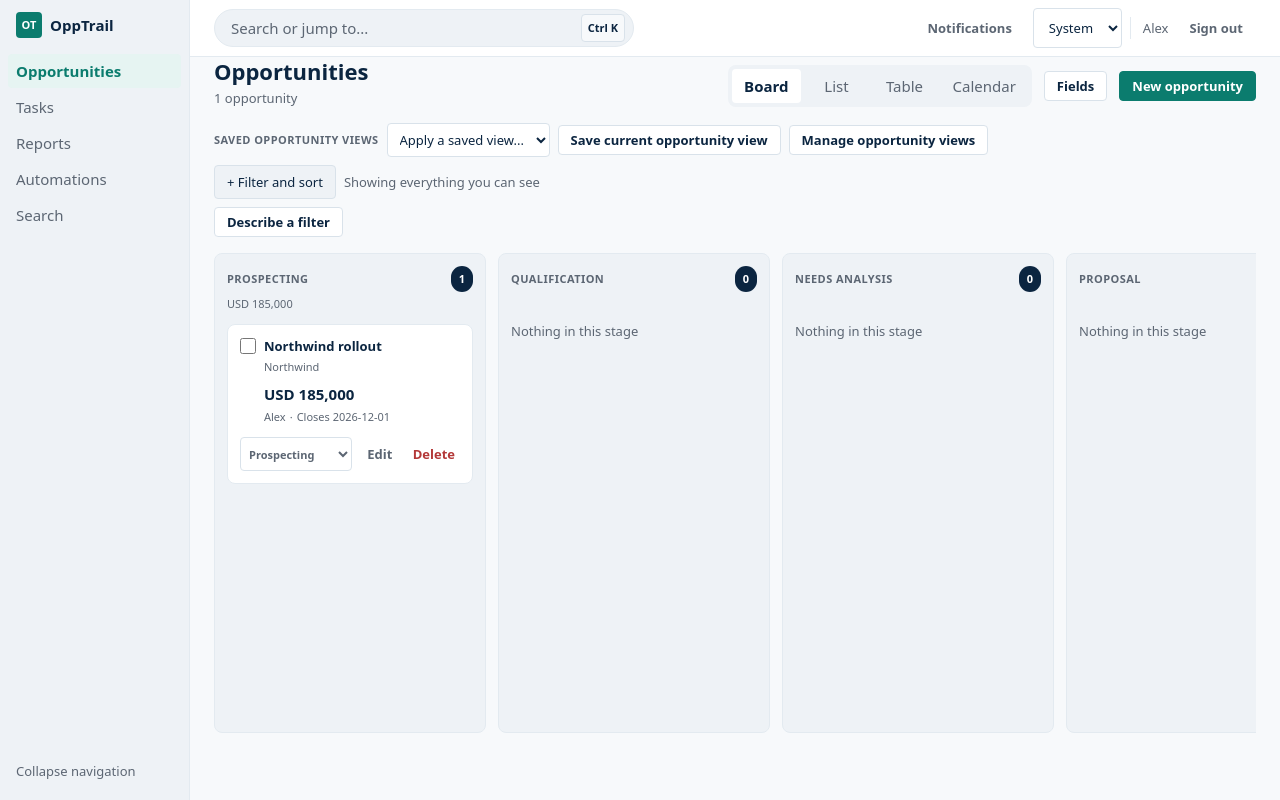
Test: a sentence as a filter you can read first › applies nothing until Apply is pressed
Expected: the heading "Opportunities" is shown, [214,57,368,85]
Click the button "Describe a filter": click(278, 222) [214,207,343,237]
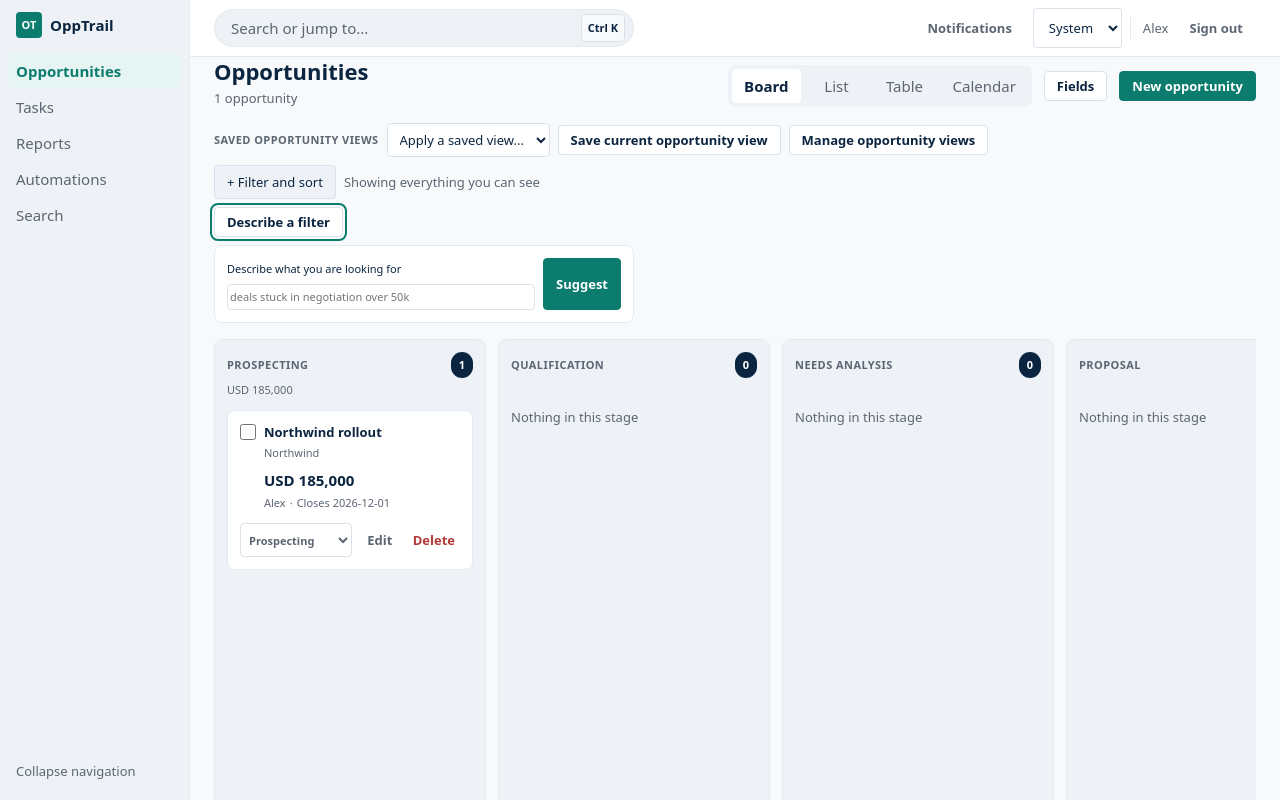
In the field labelled "Describe what you are looking for": (381, 297) [227,284,535,310], type "negotiation deals"
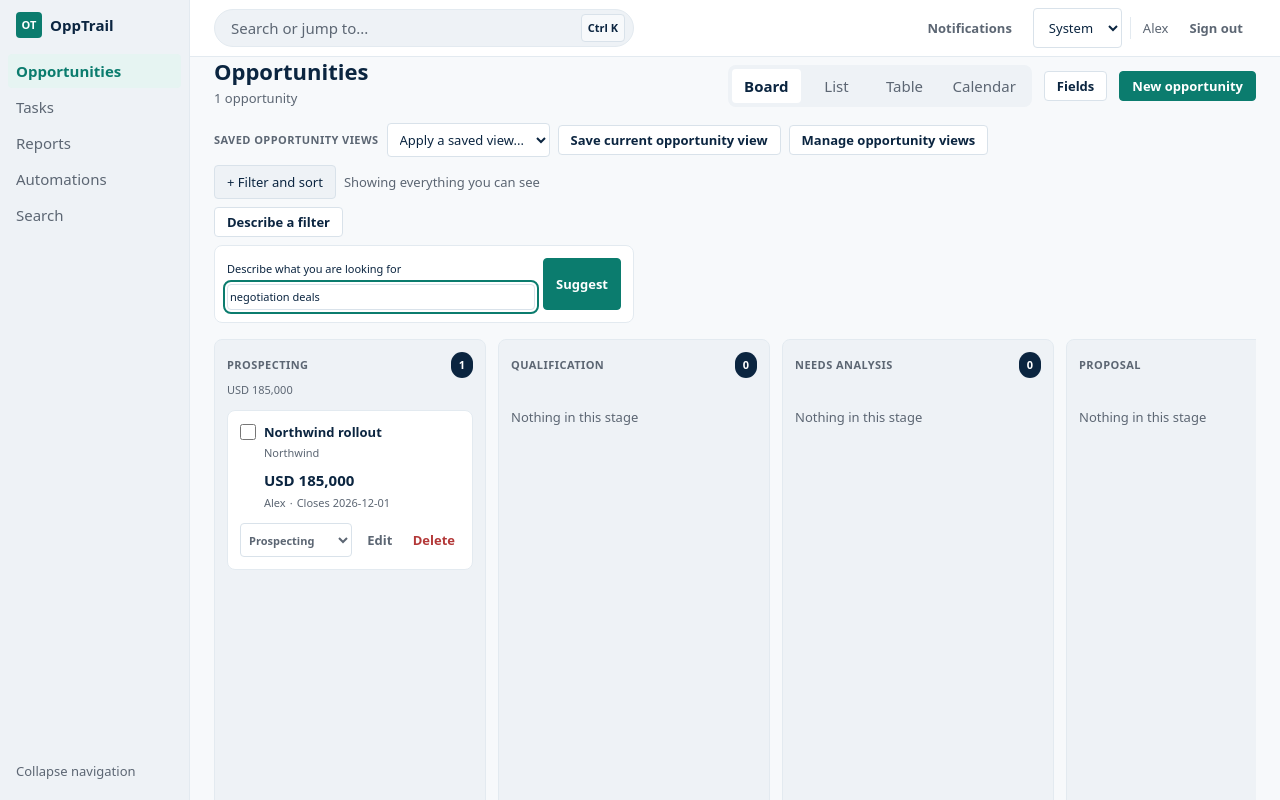
Click the button "Suggest": click(582, 284) [543,258,621,310]
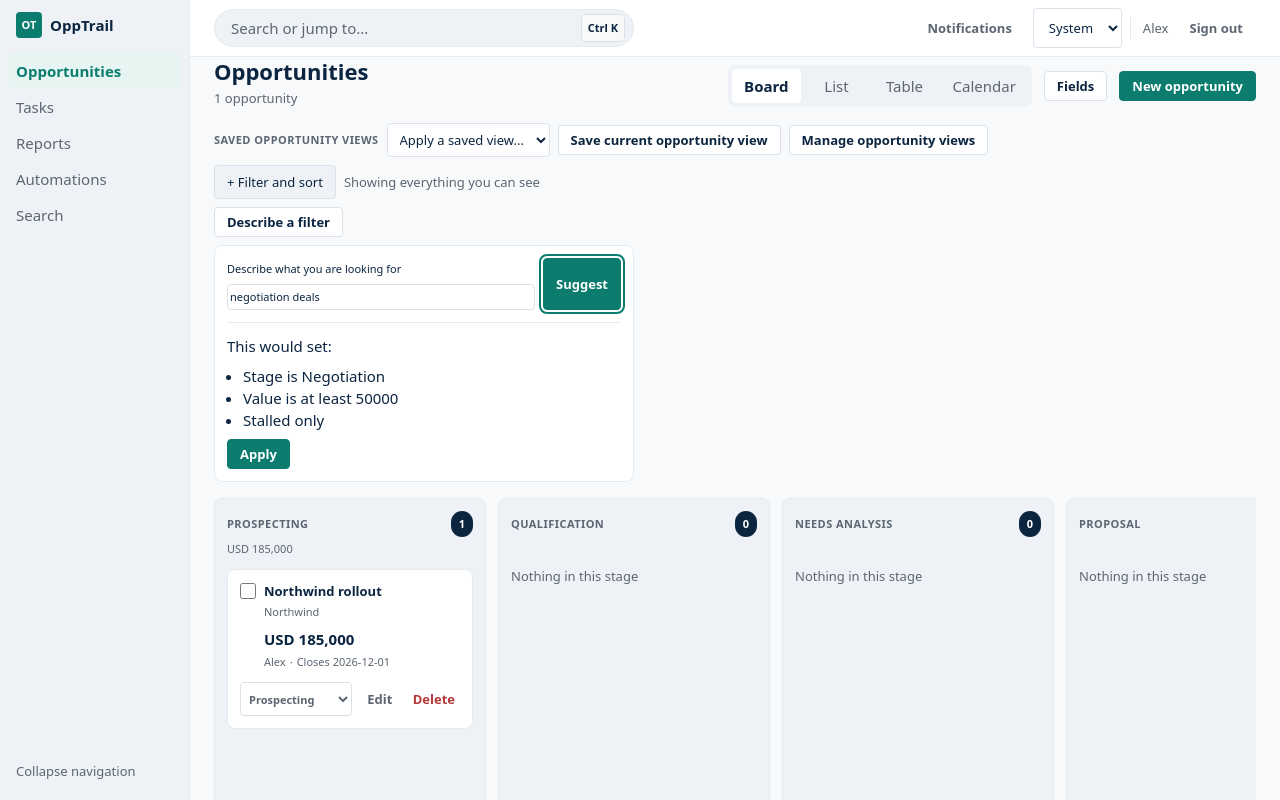
Expected: the link "Northwind rollout" is shown, [264,582,382,600]
Expected: the list item "Stage is Negotiation" is shown, [243,366,385,386]
Click the button "Apply": click(258, 454) [227,439,290,469]
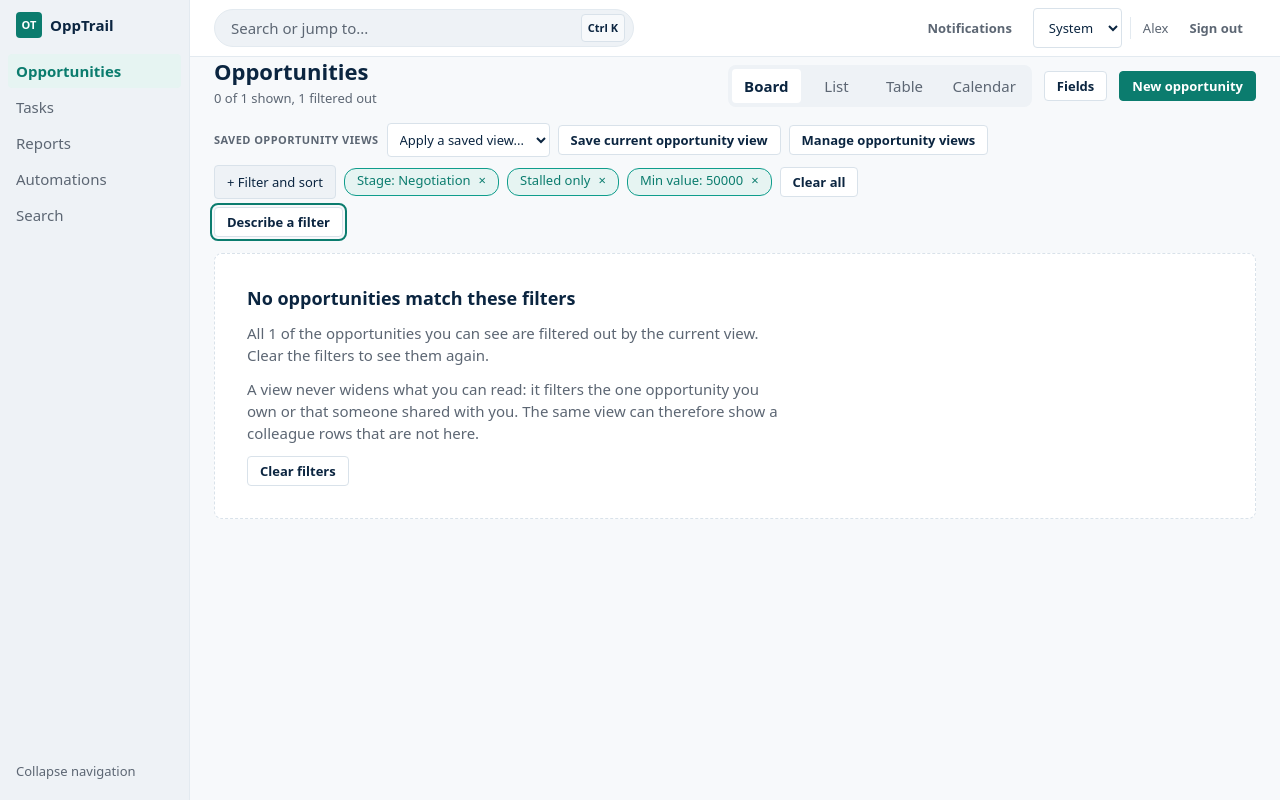
Expected: the button "Stage: Negotiation ×" is shown, [344,168,499,196]
Expected: the button "Min value: 50000 ×" is shown, [627,168,772,196]
Click the button "+ Filter and sort": click(275, 182) [214,165,336,199]
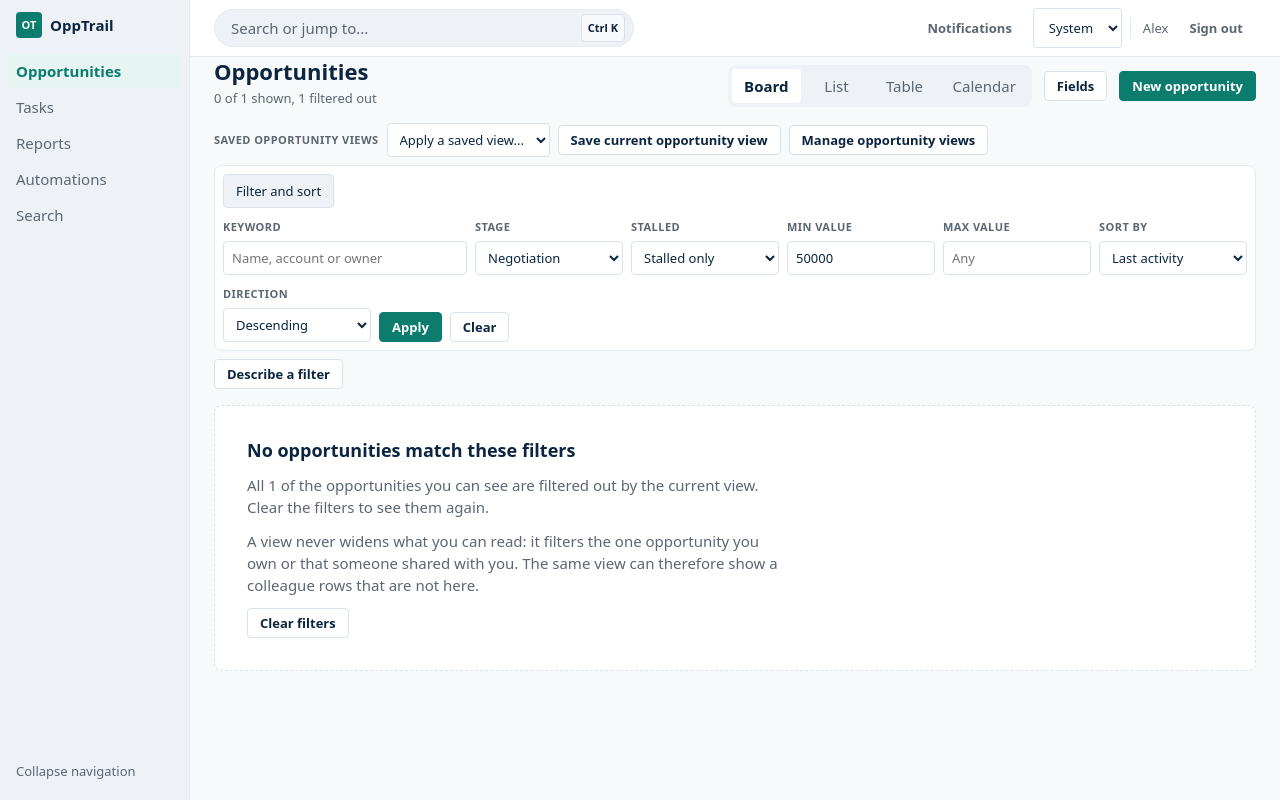
Expected: the field named "Filter opportunities by keyword" is shown, [223,241,467,275]
Expected: the dropdown named "Filter by stage" shows "Negotiation", [475,241,623,275]
Expected: the number field named "Filter by minimum value" holds "50000", [787,241,935,275]
